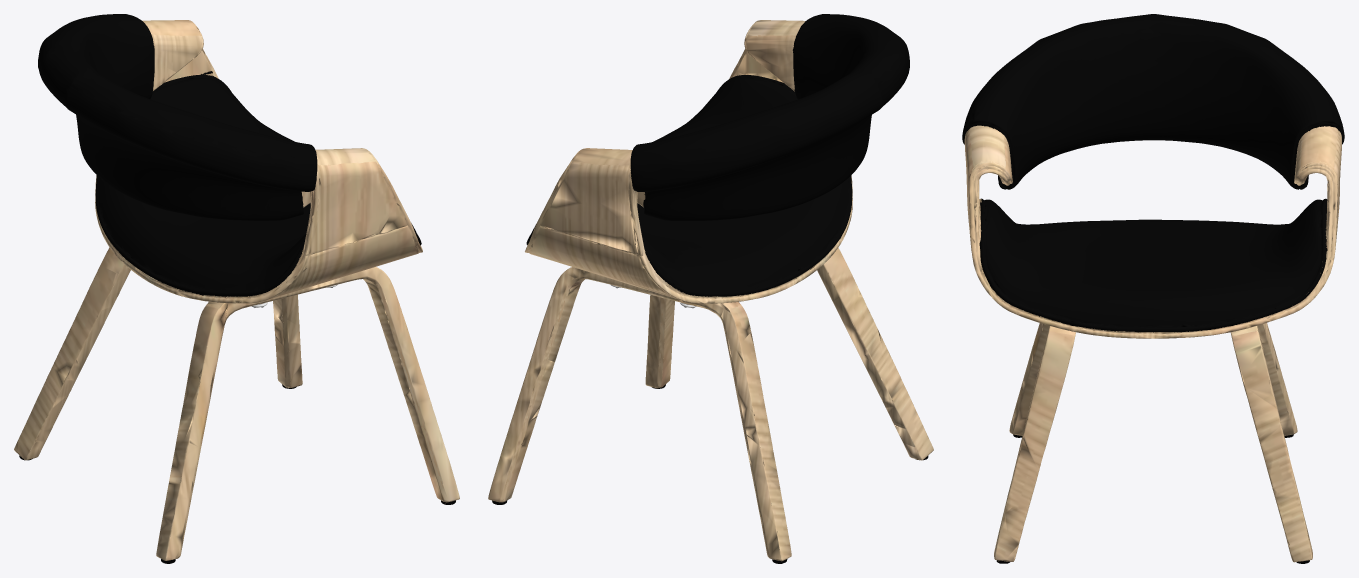
Rendered from ND-0603__Binsa.glb.
3 renders of one model, left to right at view 1: azimuth 30°, elevation 25°; view 2: azimuth 150°, elevation 25°; view 3: azimuth 270°, elevation 25°, orthographic. The views are drawn at different scales.
Parts seen in each view (by area): view 1: tripo_node_ed3c0e22-6fbc-44c6-a50c-144b1afcc120, tripo_node_ed3c0e22-6fbc-44c6-a50c-144b1afcc120.001, tripo_node_ed3c0e22-6fbc-44c6-a50c-144b1afcc120.004; view 2: tripo_node_ed3c0e22-6fbc-44c6-a50c-144b1afcc120, tripo_node_ed3c0e22-6fbc-44c6-a50c-144b1afcc120.001, tripo_node_ed3c0e22-6fbc-44c6-a50c-144b1afcc120.004; view 3: tripo_node_ed3c0e22-6fbc-44c6-a50c-144b1afcc120.001, tripo_node_ed3c0e22-6fbc-44c6-a50c-144b1afcc120.004, tripo_node_ed3c0e22-6fbc-44c6-a50c-144b1afcc120.
Part boxes in pixels (x1,y1,x2,y2): tripo_node_ed3c0e22-6fbc-44c6-a50c-144b1afcc120: (14,20,459,560); tripo_node_ed3c0e22-6fbc-44c6-a50c-144b1afcc120.001: (38,14,317,220); tripo_node_ed3c0e22-6fbc-44c6-a50c-144b1afcc120.004: (95,71,421,307); tripo_node_ed3c0e22-6fbc-44c6-a50c-144b1afcc120: (488,20,933,561); tripo_node_ed3c0e22-6fbc-44c6-a50c-144b1afcc120.001: (630,14,909,220); tripo_node_ed3c0e22-6fbc-44c6-a50c-144b1afcc120.004: (526,75,852,296); tripo_node_ed3c0e22-6fbc-44c6-a50c-144b1afcc120.001: (962,14,1344,189); tripo_node_ed3c0e22-6fbc-44c6-a50c-144b1afcc120.004: (979,198,1327,332); tripo_node_ed3c0e22-6fbc-44c6-a50c-144b1afcc120: (964,125,1341,562).
Bounding box in the file's own units: 0.7224 × 0.9777 × 0.8156.
8 materials, 1 textured.
